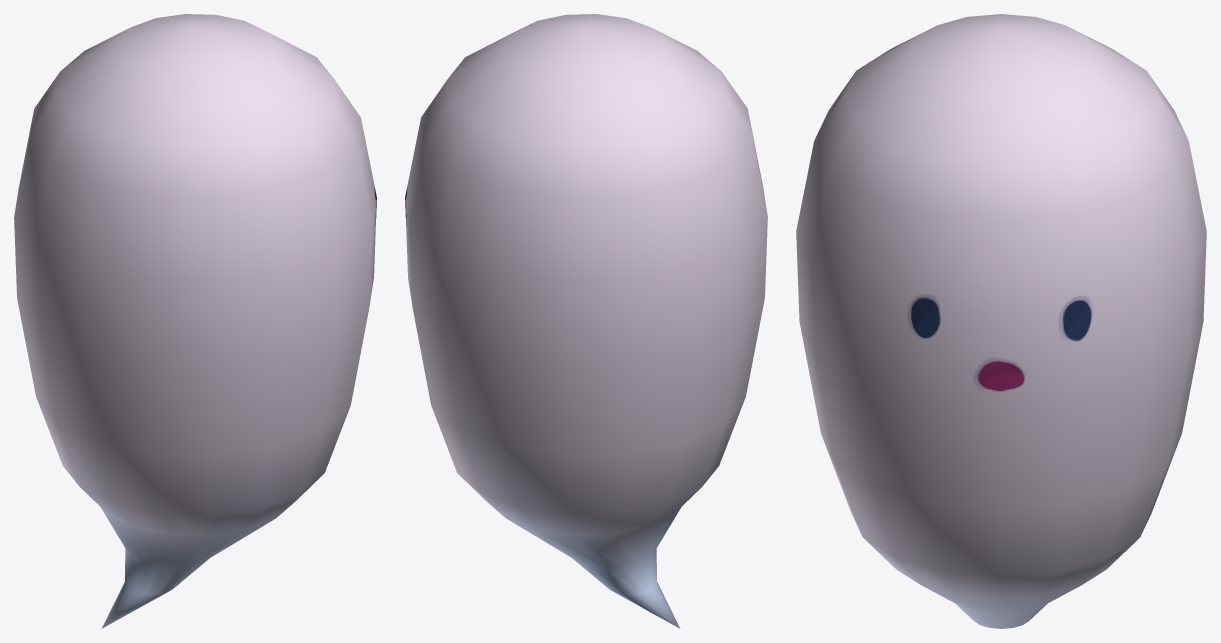
Rendered from Ghost.fbx.
3 views of the same model, side by side, from view 1: azimuth 30°, elevation 25°; view 2: azimuth 150°, elevation 25°; view 3: azimuth 270°, elevation 25° (orthographic). The views are drawn at different scales.
Visible parts, largest first — view 1: Ghost; view 2: Ghost; view 3: Ghost.
Boxes of the visible parts, bbox=[...] form: Ghost: bbox=[14, 14, 376, 628]; Ghost: bbox=[405, 14, 767, 628]; Ghost: bbox=[796, 14, 1206, 628].
Size of the model in its own units: 67.96 by 118 by 67.96.
